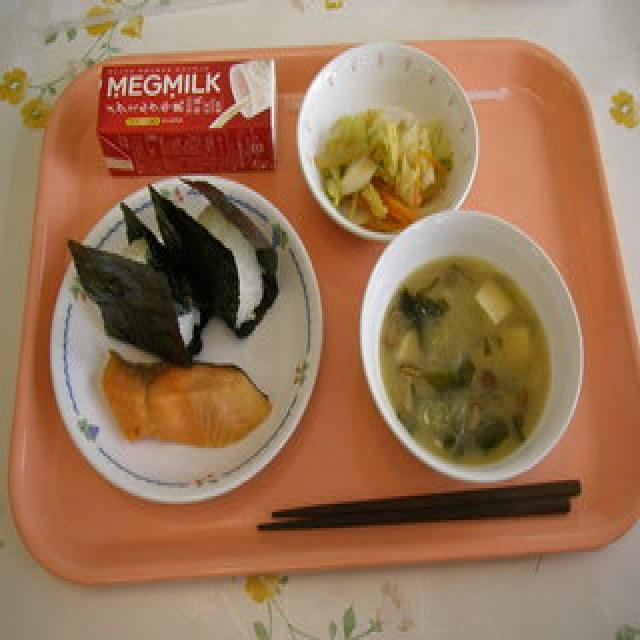熟制海鲜: (80, 342, 280, 454)
